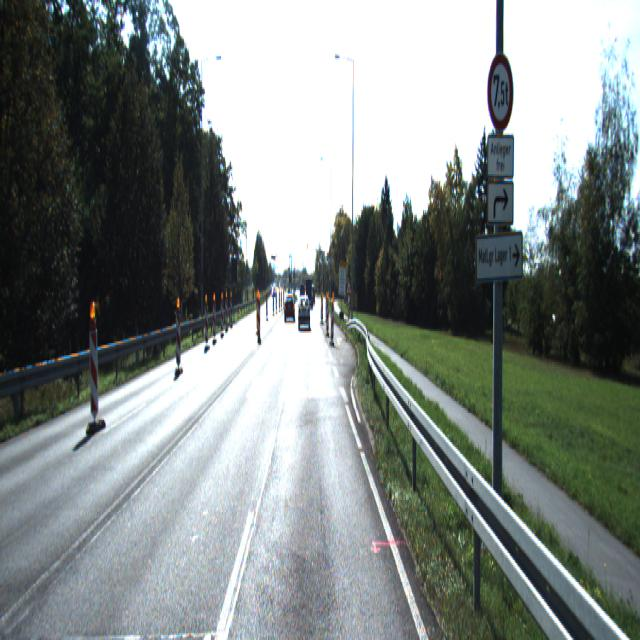Car: (298, 300, 310, 330), (284, 294, 296, 324)
